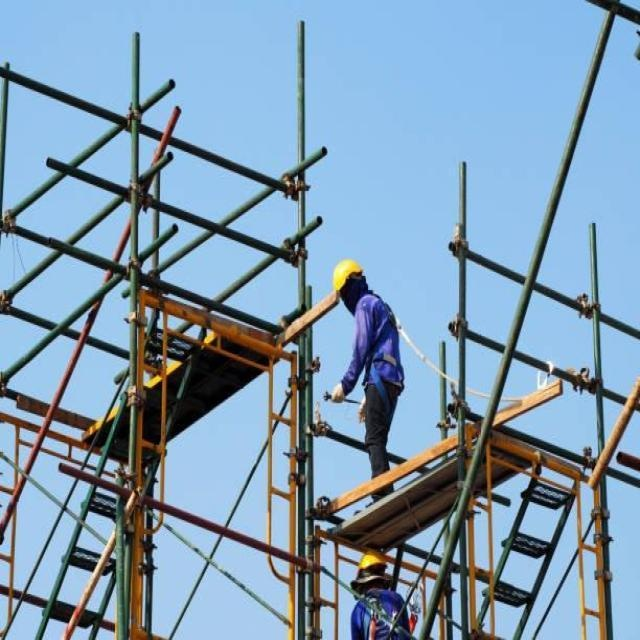Arnes_seguridad: (360, 292, 405, 422)
